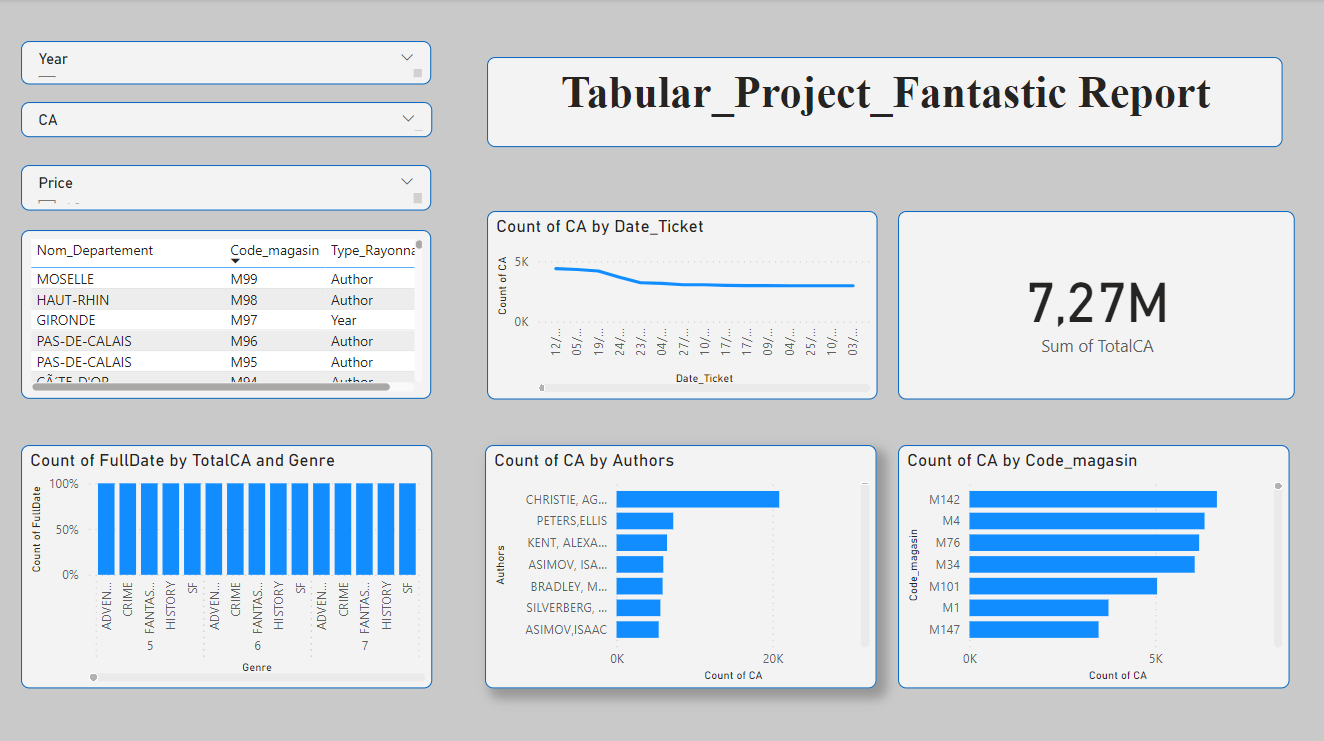

This screenshot's page, from the dashboard's own definition file:
{"tool":"powerbi","page":{"name":" Retail Analytics","canvas":[1280,720],"ordinal":0},"visuals":[{"type":"hundredPercentStackedColumnChart","fields":{"Y":["CountNonNull(DIM_DATE.FullDate)"],"Category":["Dimension_Catalogue.Genre","Fact_Ventes.CA"]},"box":[39.3,479.6,441.9,196.4],"z":0},{"type":"barChart","fields":{"Y":["Sum(Fact_Ventes.CA)"],"Category":["Dimension_Catalogue.Authors"]},"box":[890.4,281.5,353.6,180.1],"z":1000},{"type":"textbox","box":[283,283.6,198.6,40.6],"z":2000},{"type":"lineChart","fields":{"Y":["Sum(Fact_Ventes.CA)"],"Category":["Fact_Ventes.Date_Ticket"]},"box":[535.8,283,339.3,178.1],"z":3000},{"type":"barChart","fields":{"Category":["Fact_Ventes.Code_magasin"],"Y":["Sum(Fact_Ventes.CA)"]},"box":[535.9,479.5,708.5,196.1],"z":4000},{"type":"card","fields":{"Values":["Sum(Fact_Ventes.CA)"]},"box":[536.9,150.6,337.2,121.1],"z":5000},{"type":"textbox","box":[590.9,54,597.4,70.4],"z":6000},{"type":"tableEx","fields":{"Values":["Dimension_magasin.Nom_Departement","Fact_Ventes.Code_magasin","Dimension_magasin.Type_Rayonnage"]},"box":[39.3,283.2,441.9,178.4],"z":8000},{"type":"slicer","fields":{"Values":["DIM_DATE.Year"]},"box":[38.8,44.9,441.3,71],"z":9000},{"type":"slicer","fields":{"Values":["Fact_Ventes.CA"]},"box":[38.8,124.4,441.3,65.9],"z":10000},{"type":"slicer","fields":{"Values":["Fact_Ventes.Price"]},"box":[38.8,202.2,441.3,69.3],"z":11000},{"type":"card","fields":{"Values":["Sum(Dimension_magasin.Departement)"]},"box":[890.4,150.6,353.6,121.1],"z":12000}]}

Visuals, with their boxes in screenshot pixels (x1, y1, x2, y2), scaled from the page's 1280x720 canvas onto the 1324x741 screenshot:
hundredPercentStackedColumnChart - CountNonNull(DIM_DATE.FullDate) x Dimension_Catalogue.Genre: <bbox>41, 494, 498, 696</bbox>
barChart - Sum(Fact_Ventes.CA) x Dimension_Catalogue.Authors: <bbox>921, 290, 1287, 475</bbox>
textbox: <bbox>293, 292, 498, 334</bbox>
lineChart - Sum(Fact_Ventes.CA) x Fact_Ventes.Date_Ticket: <bbox>554, 291, 905, 475</bbox>
barChart - Fact_Ventes.Code_magasin x Sum(Fact_Ventes.CA): <bbox>554, 493, 1287, 695</bbox>
card - Sum(Fact_Ventes.CA): <bbox>555, 155, 904, 280</bbox>
textbox: <bbox>611, 56, 1229, 128</bbox>
tableEx - Dimension_magasin.Nom_Departement x Fact_Ventes.Code_magasin: <bbox>41, 291, 498, 475</bbox>
slicer - DIM_DATE.Year: <bbox>40, 46, 497, 119</bbox>
slicer - Fact_Ventes.CA: <bbox>40, 128, 497, 196</bbox>
slicer - Fact_Ventes.Price: <bbox>40, 208, 497, 279</bbox>
card - Sum(Dimension_magasin.Departement): <bbox>921, 155, 1287, 280</bbox>
